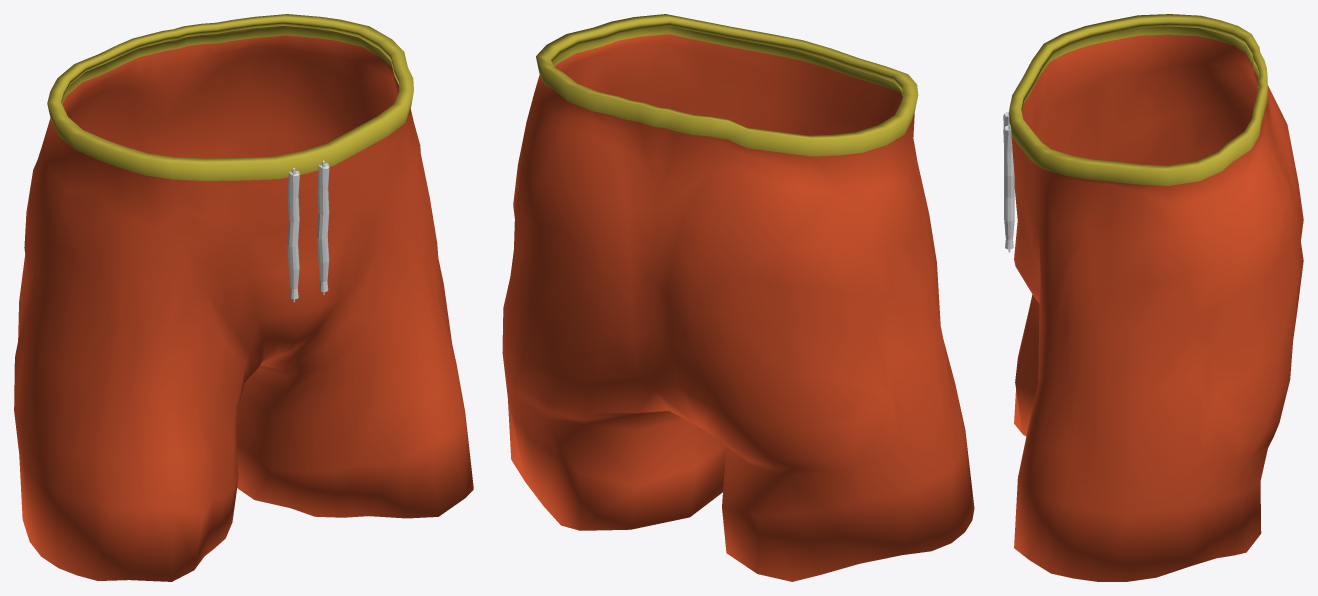
The model's file is Shots.fbx.
3 views of the same model, side by side, from view 1: azimuth 30°, elevation 25°; view 2: azimuth 150°, elevation 25°; view 3: azimuth 270°, elevation 25° (orthographic). The views are drawn at different scales.
Parts seen in each view (by area): view 1: Shots; view 2: Shots; view 3: Shots.
Boxes of the visible parts, x1,y1,x2,y2 form: Shots: [14, 14, 473, 581]; Shots: [502, 14, 974, 581]; Shots: [1003, 14, 1303, 581].
Bounding box in the file's own units: 21.98 × 22.53 × 14.57.
